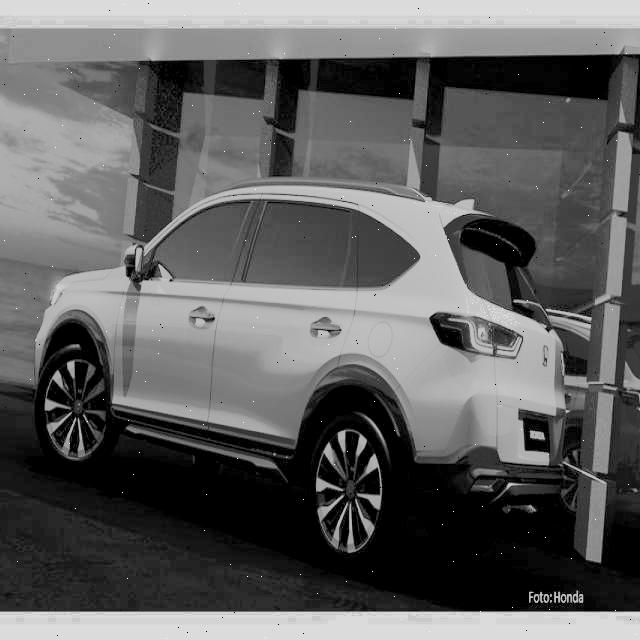Car: (40, 172, 571, 586)
